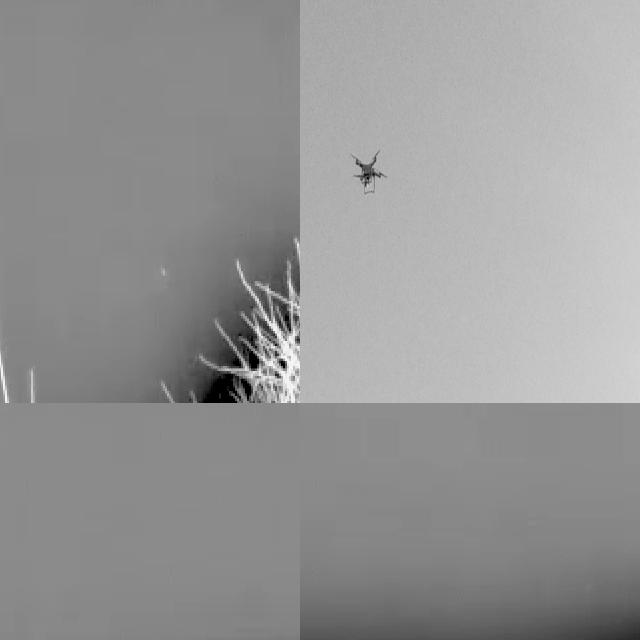0: (147, 261, 177, 293)
drone: (350, 147, 390, 202)
